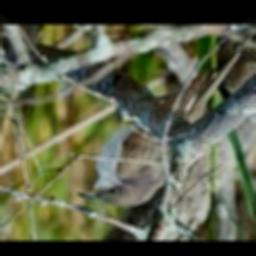Cuckoo: (76, 63, 232, 206)
